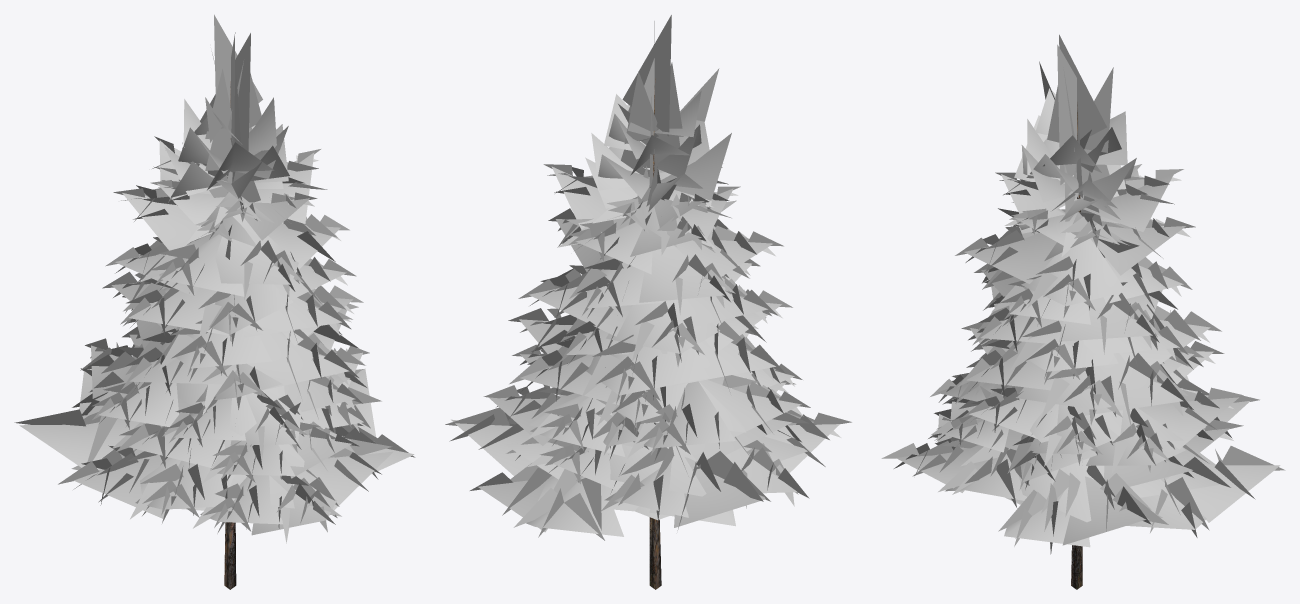
The model's file is tree_3.fbx.
3 renders of one model, left to right at view 1: azimuth 30°, elevation 25°; view 2: azimuth 150°, elevation 25°; view 3: azimuth 270°, elevation 25°, orthographic. The views are drawn at different scales.
Visible parts, largest first — view 1: methyl_tree05; view 2: methyl_tree05; view 3: methyl_tree05.
Boxes of the visible parts, x1,y1,x2,y2 form: methyl_tree05: [14, 14, 415, 589]; methyl_tree05: [445, 15, 851, 589]; methyl_tree05: [881, 34, 1285, 589].
Size of the model in its own units: 475 by 778 by 505.
